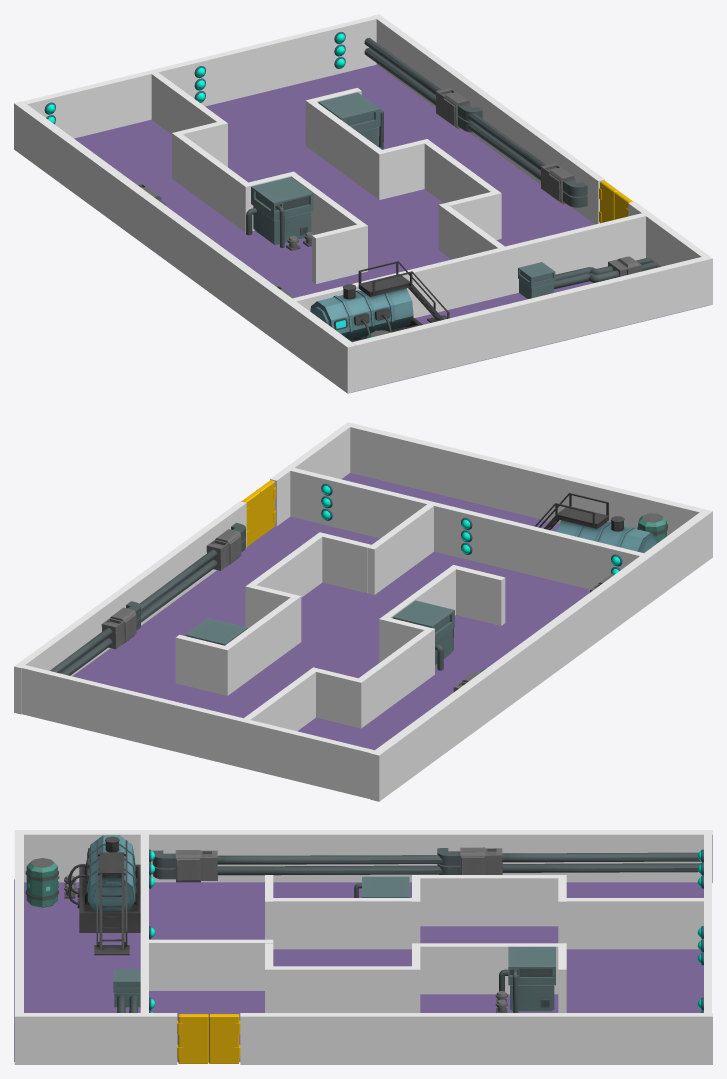
The model's file is maps_39.fbx.
3 renders of one model, top to bottom at view 1: azimuth 30°, elevation 25°; view 2: azimuth 150°, elevation 25°; view 3: azimuth 270°, elevation 25°, orthographic. The views are drawn at different scales.
Parts seen in each view (by area): view 1: wall_01_08_geo, wall_01_07_geo, wall_01_05_geo, wall_01_09_geo, wall_01_09_geo3, wall_01_06_geo, tankwater_geo, generatorStation_05_geo, wall_01_11_geo8, wall_01_11_geo4, generatorStation_03_geo5, wall_01_09_geo5 (+13 smaller); view 2: wall_01_08_geo, wall_01_07_geo, wall_01_09_geo, wall_01_09_geo3, wall_01_05_geo, wall_01_06_geo, wall_01_11_geo8, wall_01_11_geo4, wall_01_11_geo7, tankwater_geo, wall_01_09_geo6, wall_01_06_geo1 (+15 smaller); view 3: wall_01_08_geo, wall_01_06_geo, wall_01_07_geo, wall_01_06_geo1, wall_01_11_geo4, wall_01_11_geo6, wall_01_11_geo5, wall_01_11_geo9, tankwater_geo, generatorStation_03_geo3, wall_01_11_geo7, generatorStation_03_geo2 (+16 smaller).
Boxes of the visible parts, <box> form: wall_01_08_geo: <box>74,64,708,392</box>; wall_01_07_geo: <box>14,101,356,393</box>; wall_01_05_geo: <box>352,257,705,391</box>; wall_01_09_geo: <box>23,16,376,138</box>; wall_01_09_geo3: <box>292,213,645,317</box>; wall_01_06_geo: <box>372,14,604,224</box>; tankwater_geo: <box>310,261,449,341</box>; generatorStation_05_geo: <box>246,177,313,247</box>; wall_01_11_geo8: <box>309,102,381,196</box>; wall_01_11_geo4: <box>175,134,248,229</box>; generatorStation_03_geo5: <box>468,113,587,207</box>; wall_01_09_geo5: <box>312,223,367,283</box>; wall_01_08_geo: <box>72,473,589,750</box>; wall_01_07_geo: <box>370,509,712,801</box>; wall_01_09_geo: <box>21,665,374,798</box>; wall_01_09_geo3: <box>290,468,643,589</box>; wall_01_05_geo: <box>350,424,703,535</box>; wall_01_06_geo: <box>14,501,246,714</box>; wall_01_11_geo8: <box>224,597,297,692</box>; wall_01_11_geo4: <box>359,630,430,725</box>; wall_01_11_geo7: <box>368,504,433,594</box>; tankwater_geo: <box>534,493,657,552</box>; wall_01_09_geo6: <box>175,634,231,695</box>; wall_01_06_geo1: <box>270,422,354,526</box>; wall_01_08_geo: <box>14,879,703,1061</box>; wall_01_06_geo: <box>240,1013,712,1064</box>; wall_01_07_geo: <box>14,830,712,882</box>; wall_01_06_geo1: <box>14,1013,177,1064</box>; wall_01_11_geo4: <box>420,875,559,926</box>; wall_01_11_geo6: <box>273,898,412,949</box>; wall_01_11_geo5: <box>566,898,705,949</box>; wall_01_11_geo9: <box>273,966,412,1012</box>; tankwater_geo: <box>68,835,140,955</box>; generatorStation_03_geo3: <box>152,850,442,882</box>; wall_01_11_geo7: <box>148,939,273,990</box>; generatorStation_03_geo2: <box>437,847,701,874</box>.
Size of the model in its own units: 73.34 by 13.25 by 116.
Materials: 6 (6 with a texture image).
